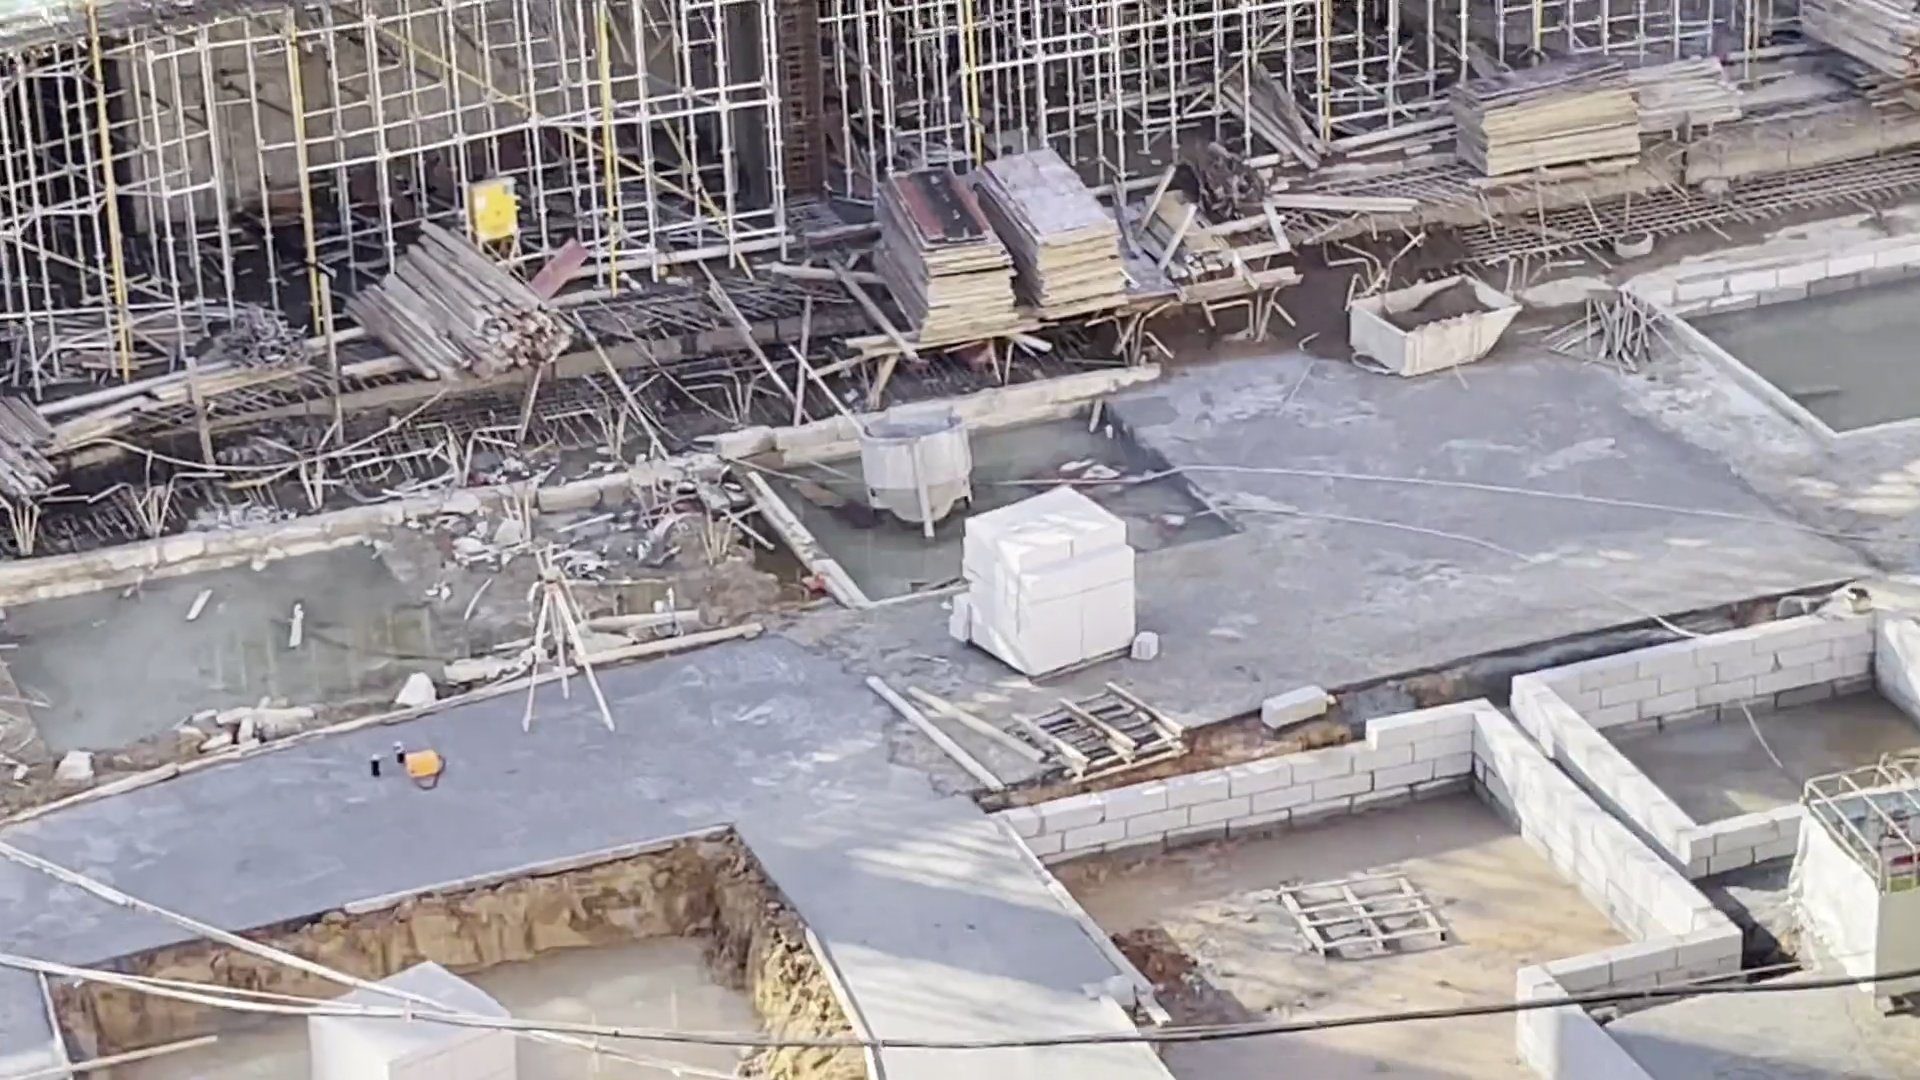board: (984, 142, 1138, 322), (866, 171, 1023, 342), (1445, 47, 1644, 179)
brick: (953, 491, 1145, 676), (307, 1021, 518, 1077)
ebox: (467, 175, 524, 257)
hopper: (1352, 272, 1528, 378), (855, 406, 971, 546)
wood: (344, 220, 575, 378), (1, 389, 71, 524)
